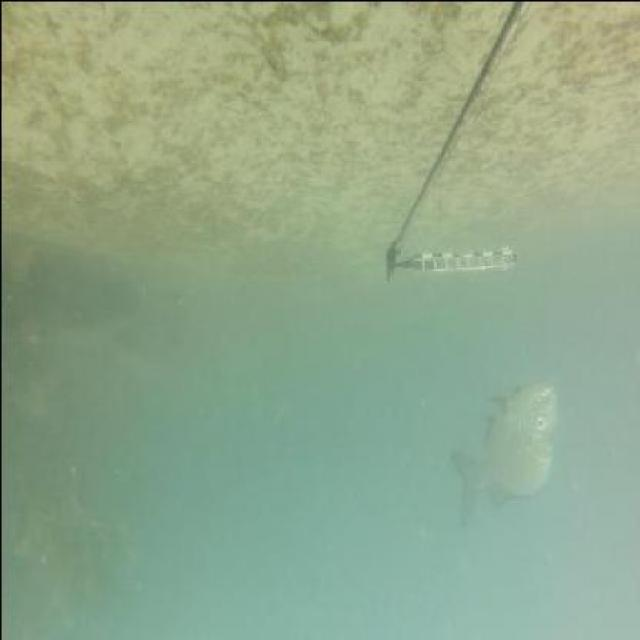acanthopagrus_palmaris: (448, 370, 558, 535)
